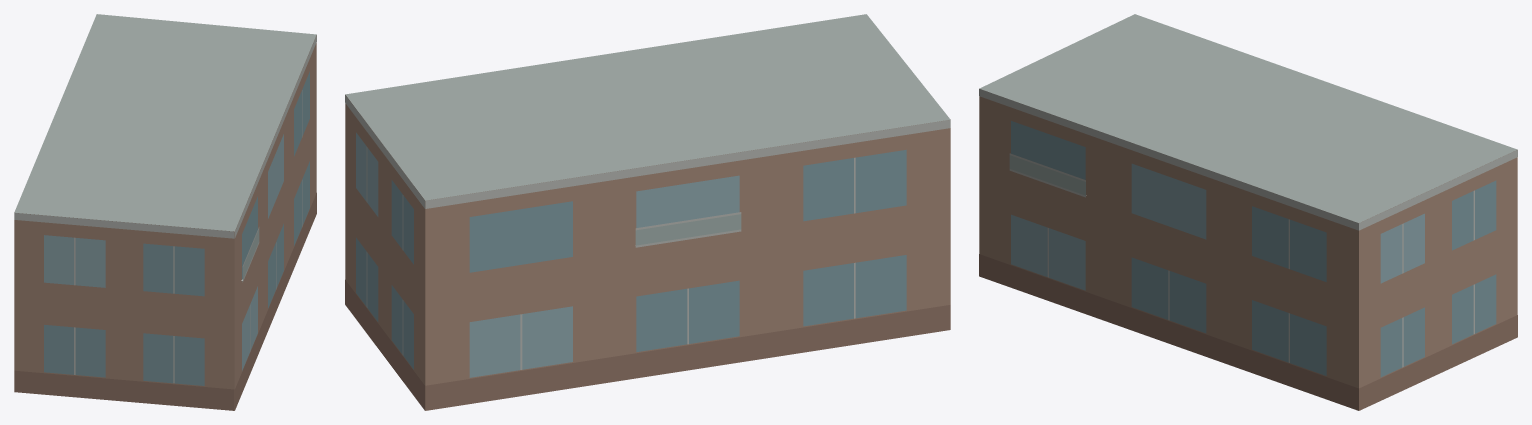
The model's file is survey-upis-32539107.glb.
3 views of the same model, side by side, from view 1: azimuth 30°, elevation 25°; view 2: azimuth 150°, elevation 25°; view 3: azimuth 270°, elevation 25° (orthographic). The views are drawn at different scales.
Visible parts, largest first — view 1: survey-upis-32539107.tmp; view 2: survey-upis-32539107.tmp; view 3: survey-upis-32539107.tmp.
Part boxes in pixels (<box>): survey-upis-32539107.tmp: <box>14,14,316,410</box>; survey-upis-32539107.tmp: <box>345,14,950,410</box>; survey-upis-32539107.tmp: <box>979,14,1517,410</box>.
Size of the model in its own units: 14.59 by 6.1 by 15.87.
